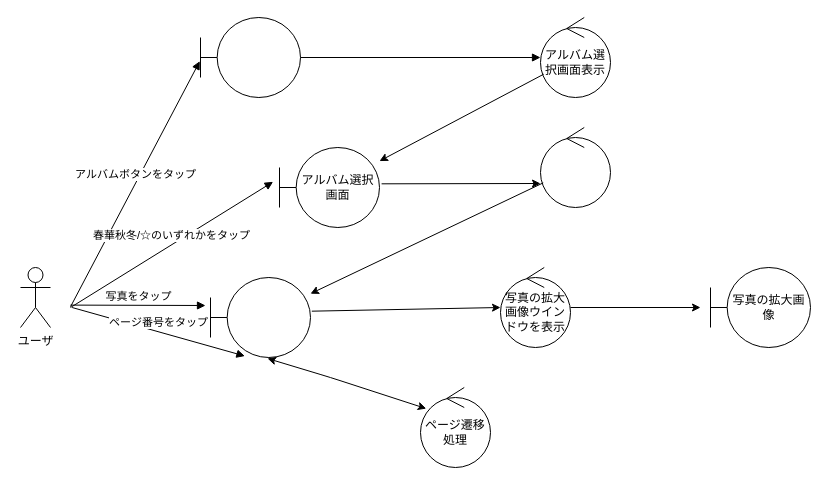
Image size: 828x485. Some labels were removed from this diagram. Here are the shapes that lost their labels. From the top down, the centre of each, then its label:
At point (250, 57): "タイトル以外のページ".
At point (575, 167): "アルバム画面表示".
At point (260, 317): "アルバム画面".
